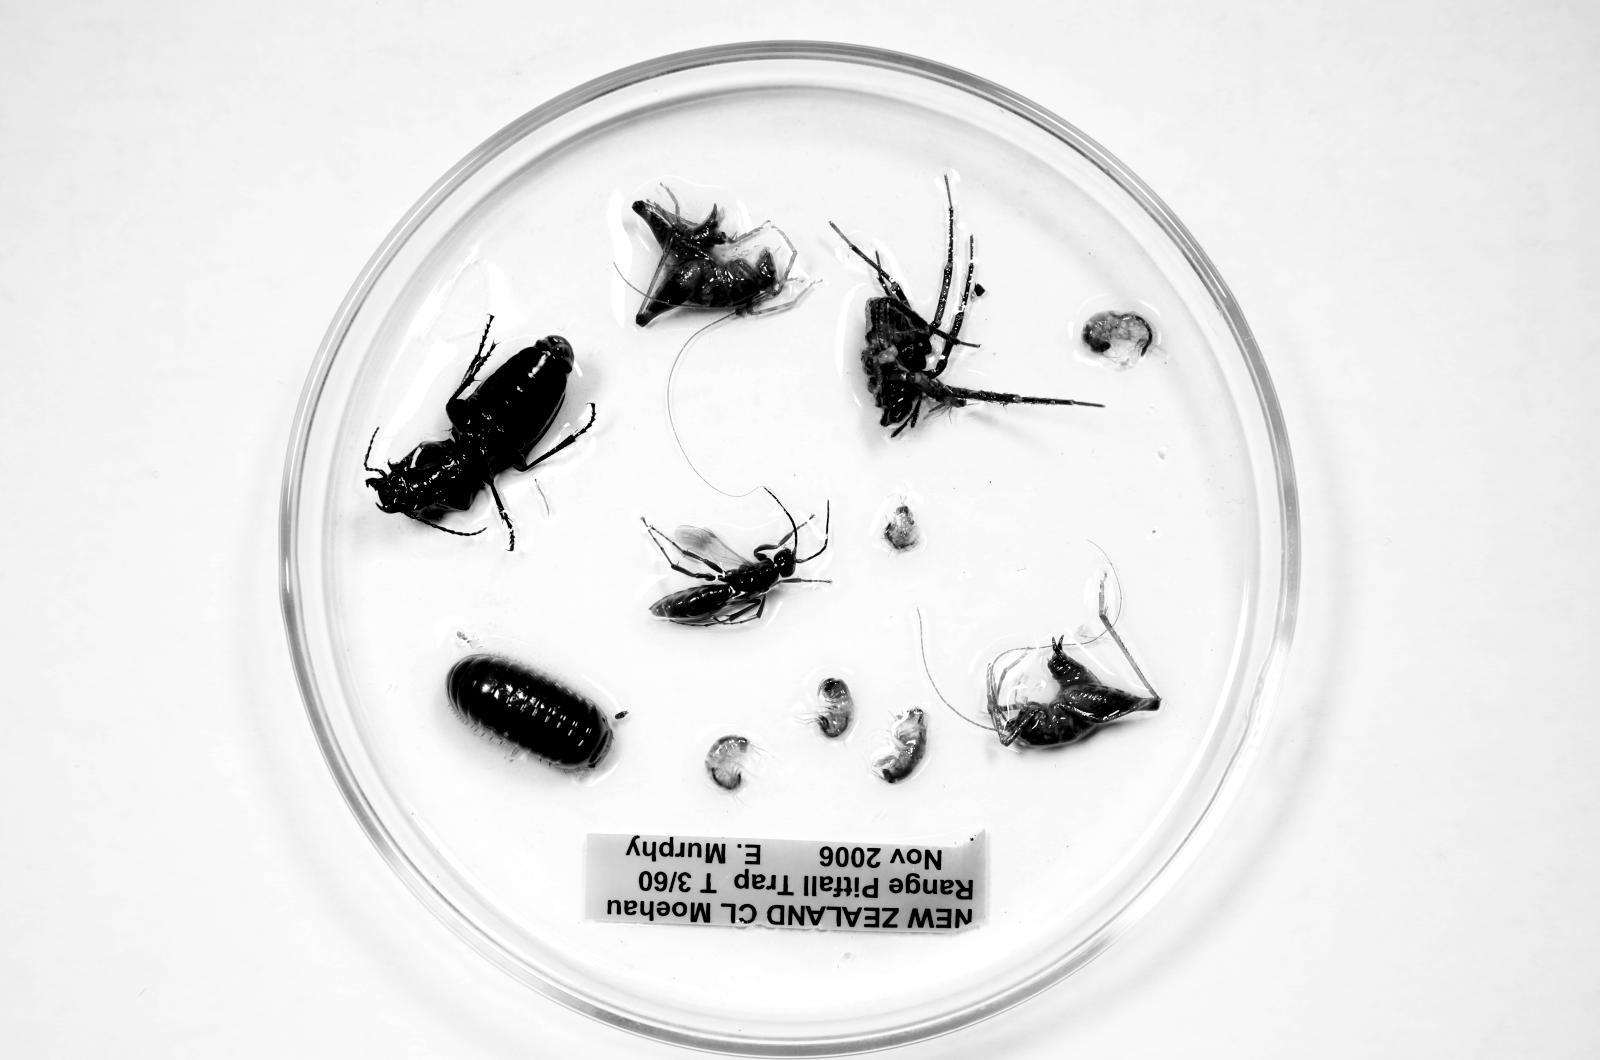amphipoda: (869, 706, 927, 783), (1081, 311, 1155, 368), (705, 735, 752, 791), (814, 678, 854, 738), (883, 503, 921, 552)
araneae: (831, 175, 1097, 437)
carabidae: (367, 329, 597, 550)
hymenoptera: (646, 522, 816, 625)
isopoda: (448, 655, 614, 769)
orthoptera: (987, 577, 1161, 746), (622, 177, 807, 327)
